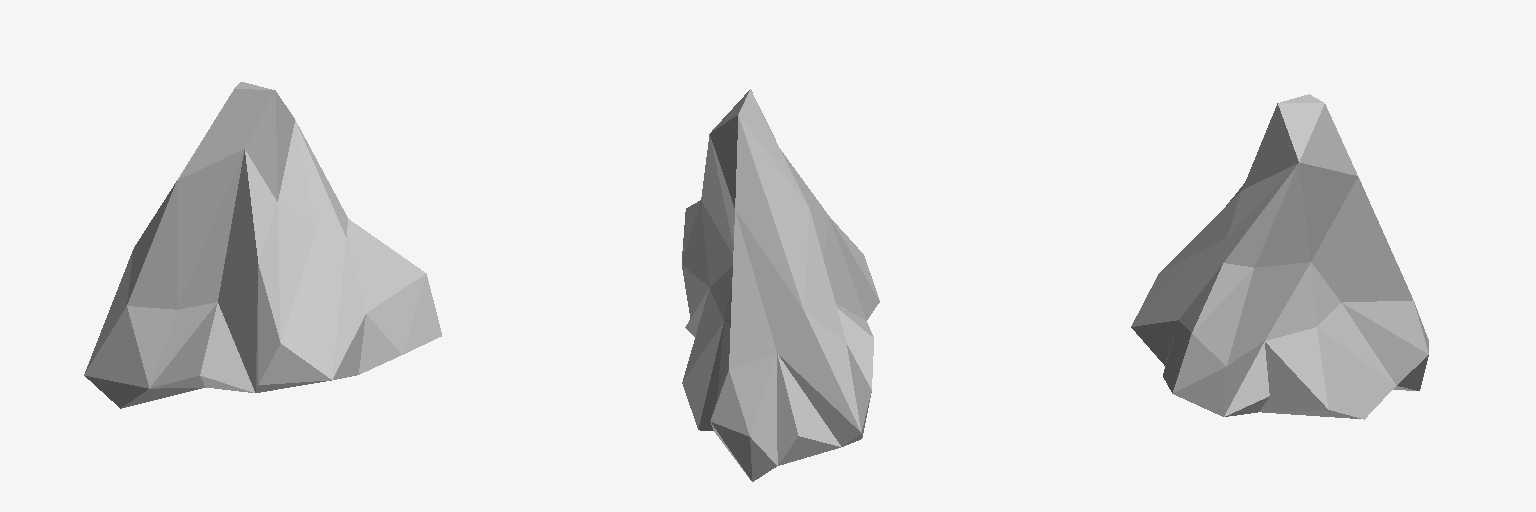
The model's file is CL_drums_dir2_LOD3.obj.
3 views of the same model, side by side, from view 1: azimuth 30°, elevation 25°; view 2: azimuth 150°, elevation 25°; view 3: azimuth 270°, elevation 25° (orthographic).
Bounding box in the file's own units: 0.8313 × 0.9689 × 0.8084.